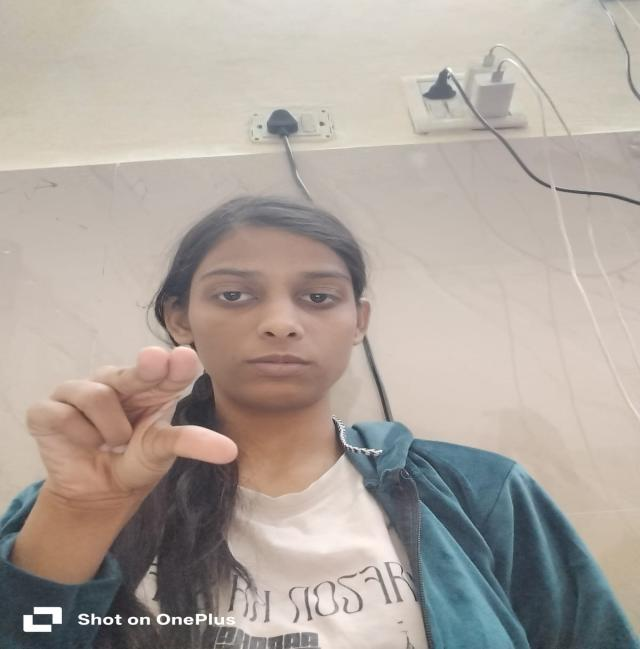No: (11, 338, 261, 522)
